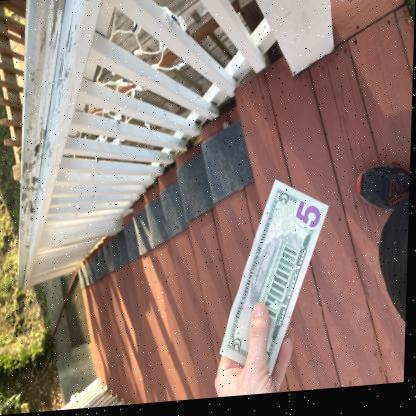dollar_back: (222, 183, 330, 381)
